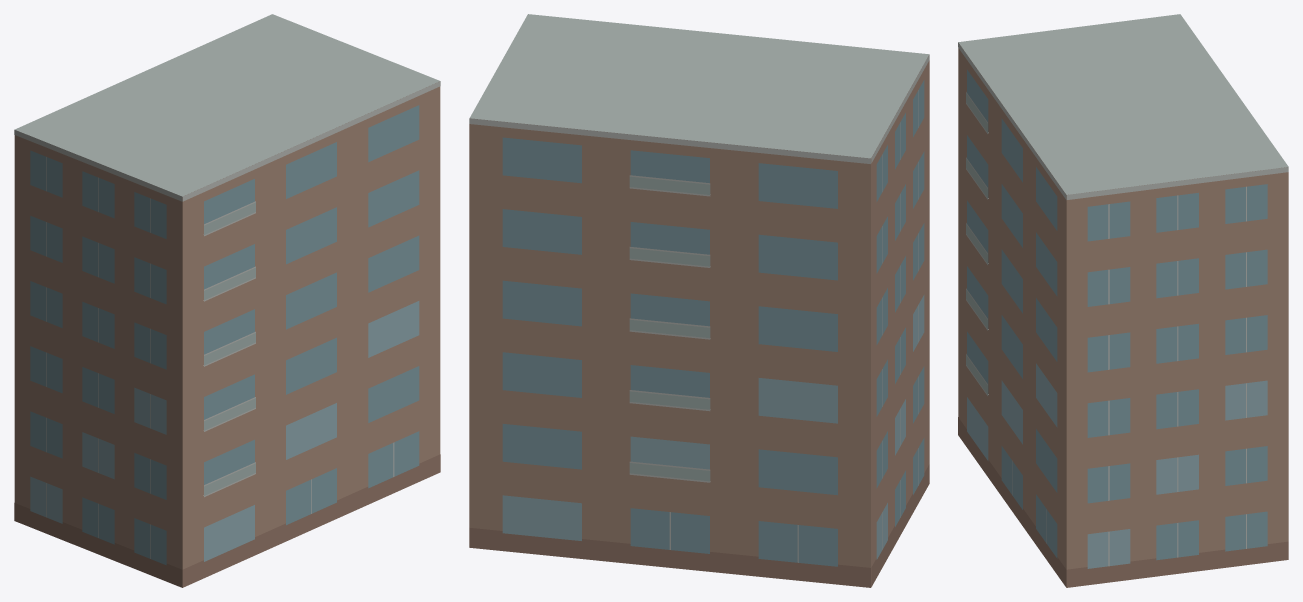
File: survey-upis-32604525.glb
The picture shows the model from 3 angles, left to right: view 1: azimuth 30°, elevation 25°; view 2: azimuth 150°, elevation 25°; view 3: azimuth 270°, elevation 25°; orthographic projection. The views are drawn at different scales.
Parts seen in each view (by area): view 1: survey-upis-32604525.tmp; view 2: survey-upis-32604525.tmp; view 3: survey-upis-32604525.tmp.
Part boxes in pixels (box(x1,y1,x2,y2)): survey-upis-32604525.tmp: box(14, 14, 440, 587); survey-upis-32604525.tmp: box(469, 14, 929, 587); survey-upis-32604525.tmp: box(958, 14, 1288, 587).
Bounding box in the file's own units: 18.09 × 18.3 × 13.97.
